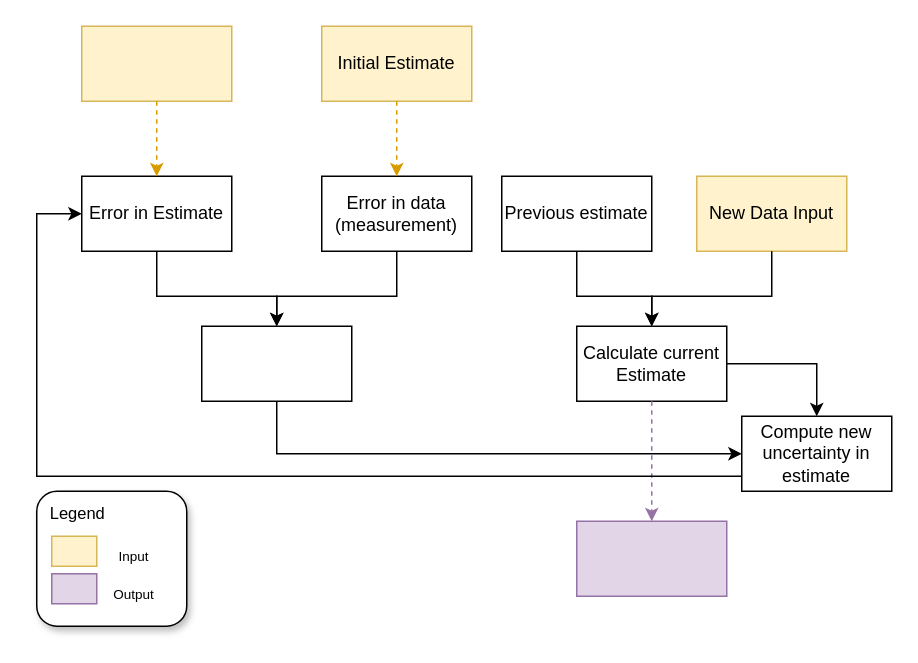
This 918x663 diagram has some shape labels left out. The shapes that lost their labels are listed below. From the top down, each one's centre as x and y in pixels, then its label:
At (x=156, y=63): "Initial Error Estimate".
At (x=276, y=363): "Compute Kalman Gain".
At (x=651, y=558): "Updated Estimate".
